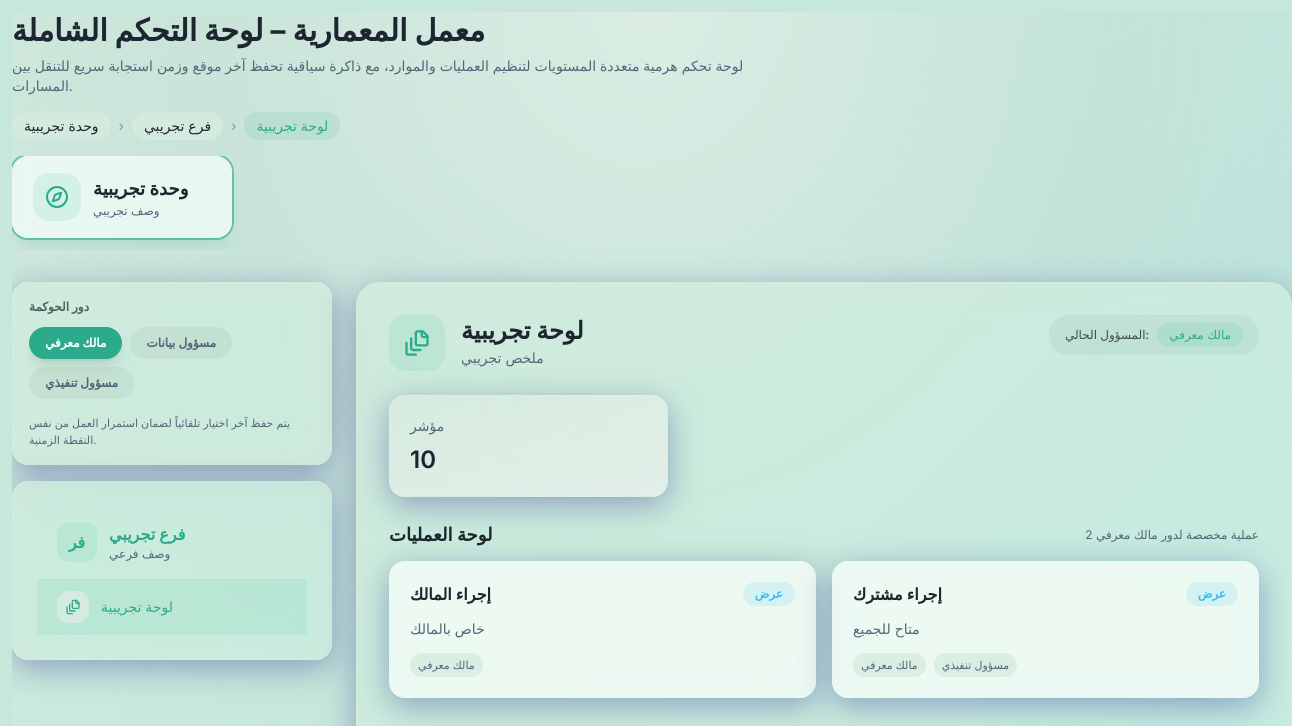
يتغير عرض الإجراءات عند تبديل الدور
Expected: the text "إجراء المالك" is shown, [410,582,491,606]
Click the button "مسؤول تنفيذي" at (82, 383), box [29,367,134,399]
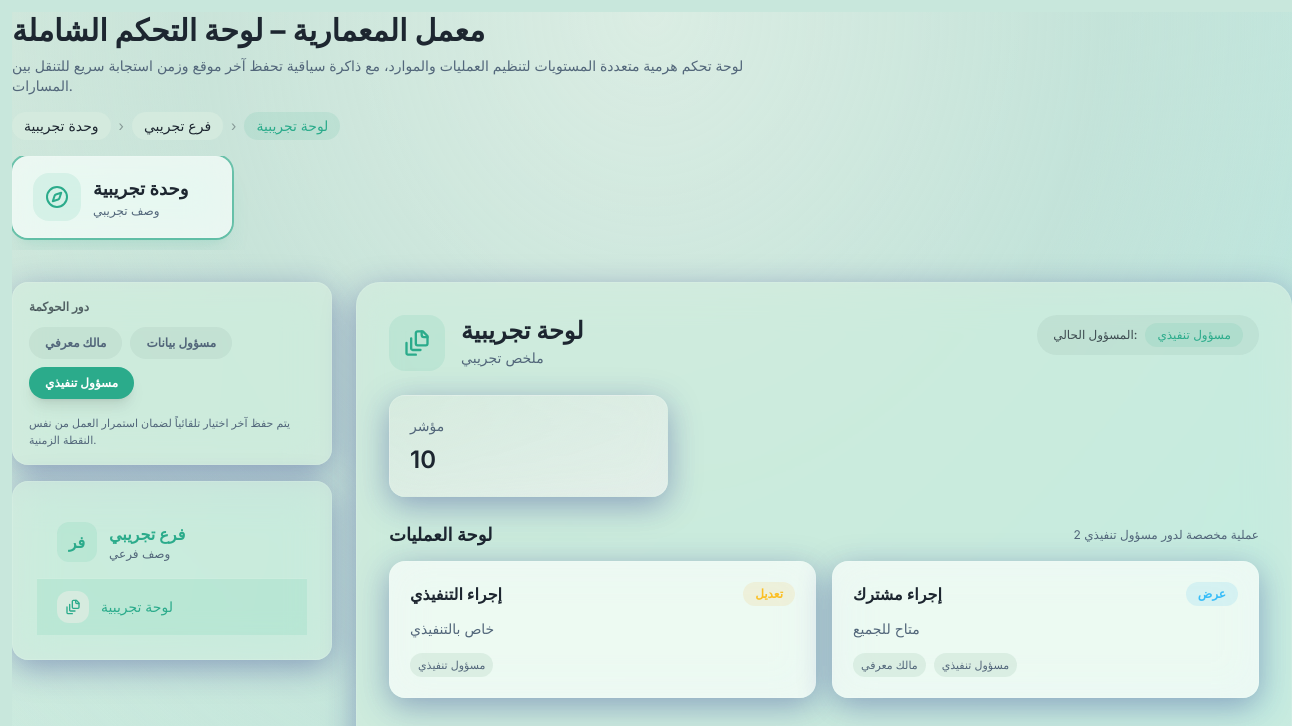
Now the text "إجراء التنفيذي" is shown, box [410,582,502,606]
Now the text "إجراء المالك" is gone
